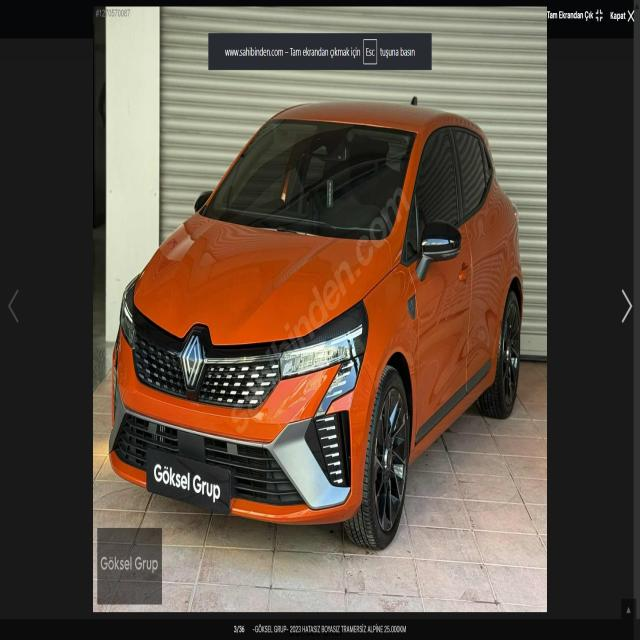renault: (176, 320, 211, 398)
